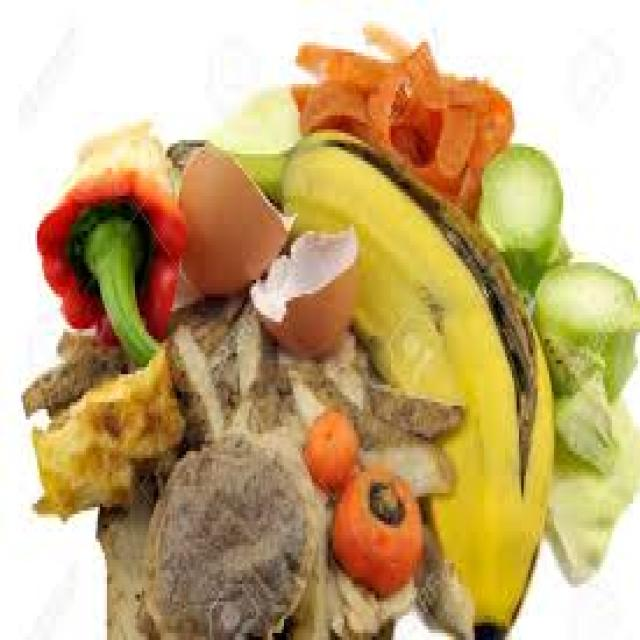Organik: (16, 0, 640, 640), (32, 104, 448, 640)
